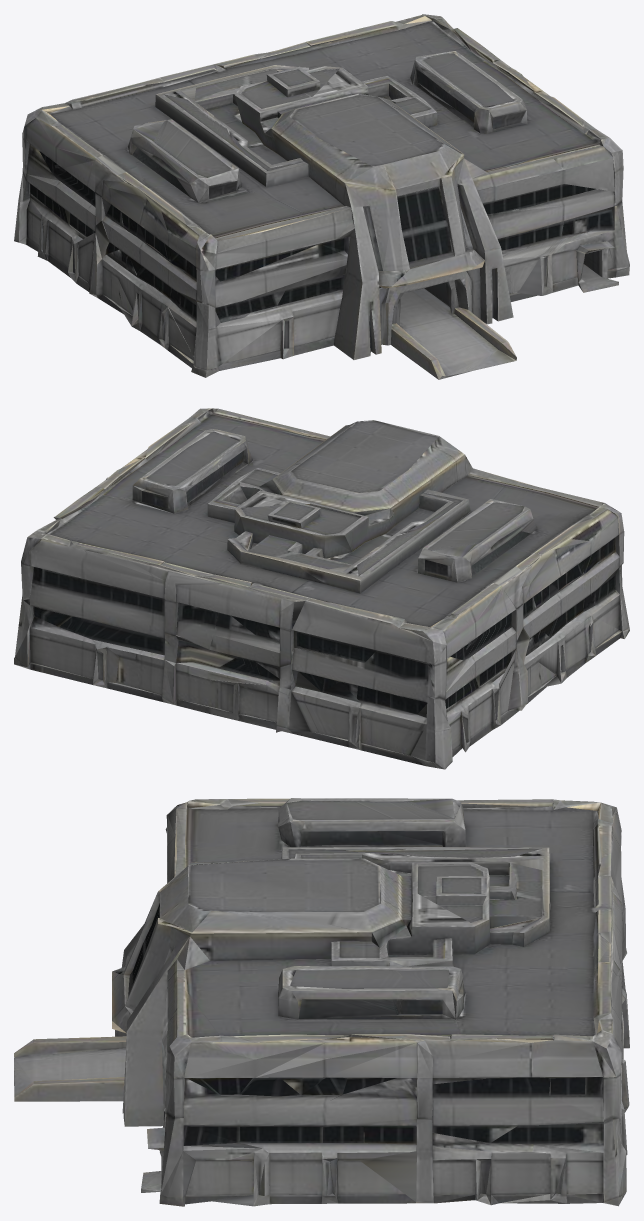
The model's file is imperial_gene_clinic_lod2.glb.
The picture shows the model from 3 angles, top to bottom: view 1: azimuth 30°, elevation 25°; view 2: azimuth 150°, elevation 25°; view 3: azimuth 270°, elevation 25°; orthographic projection. The views are drawn at different scales.
Parts seen in each view (by area): view 1: mesh_node; view 2: mesh_node; view 3: mesh_node.
Part boxes in pixels (left/top/right/bottom): mesh_node: left=14, top=14, right=629, bottom=379; mesh_node: left=14, top=408, right=629, bottom=769; mesh_node: left=14, top=798, right=629, bottom=1206.
Bounding box in the file's own units: 23.66 × 8.31 × 23.95.
1 material, 1 textured.
